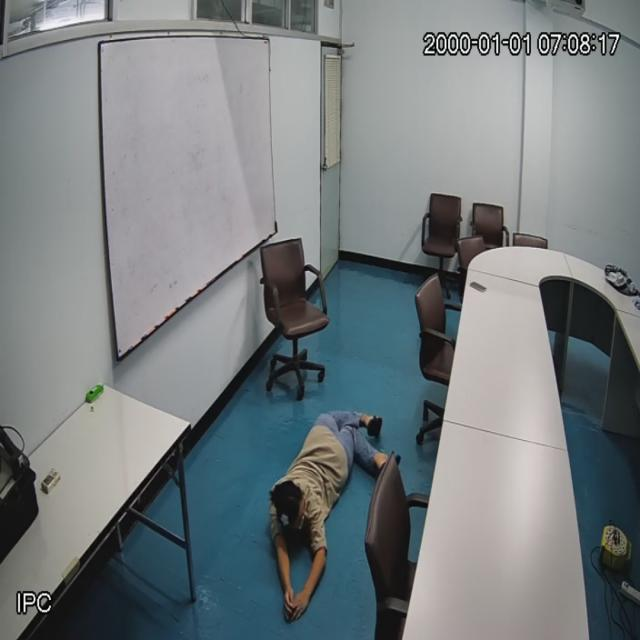fall: (261, 398, 380, 615)
